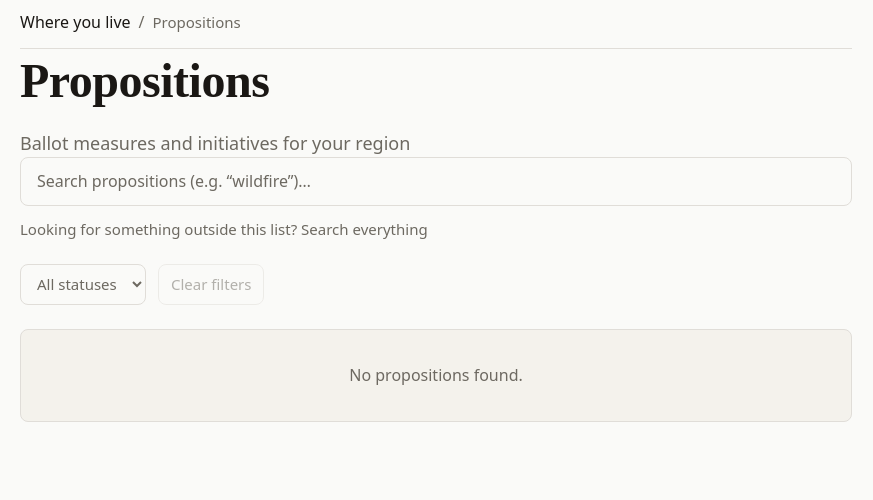
Test case: PropositionsPage › search UX regressions caught in review (#1155) › says 'no results for your query', not 'no propositions', when a search misses
Type "zzzz" into the search field labelled "Search propositions (e.g. “wildfire”)…".
click(436, 181); type("zzzz")  # box [20,157,852,206]
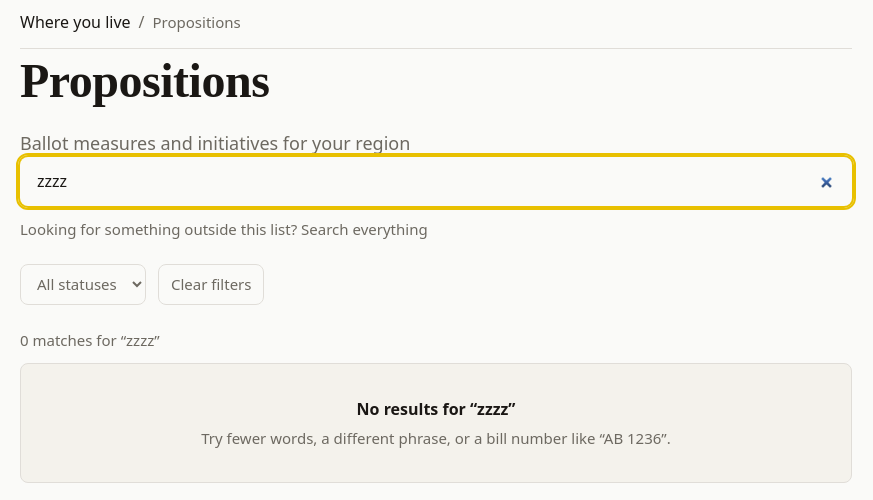
Check: the text "No results for" is shown 2 times
Check: the text "No propositions found" is gone
